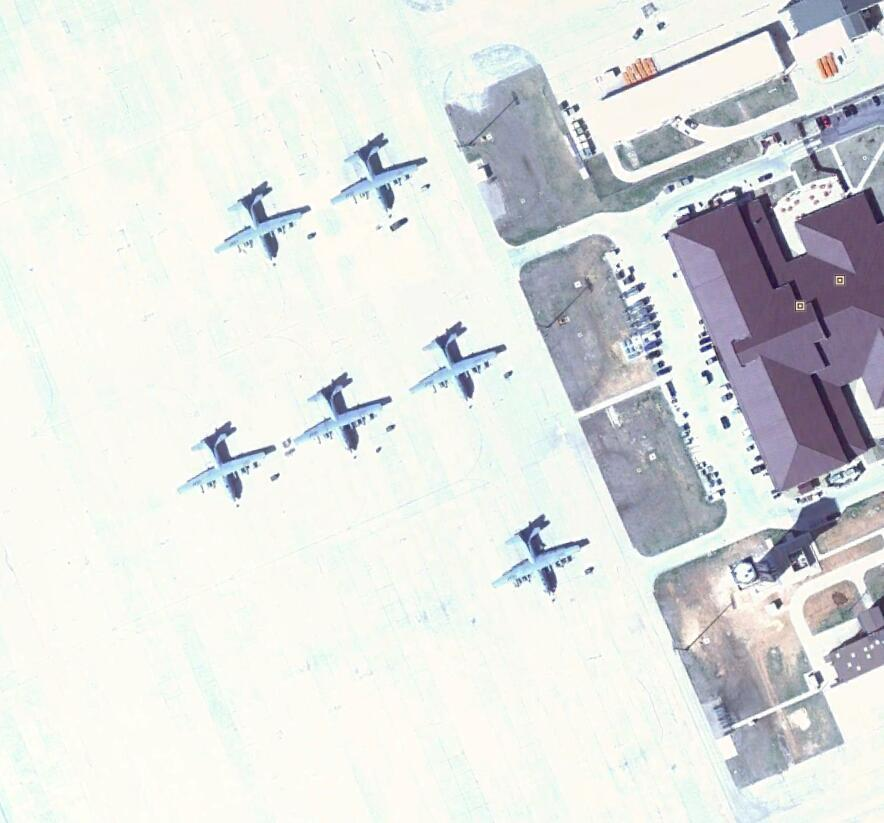A2: (290, 370, 393, 454), (325, 137, 427, 218), (491, 514, 587, 600), (214, 180, 311, 261), (177, 424, 276, 503), (406, 323, 505, 399)
